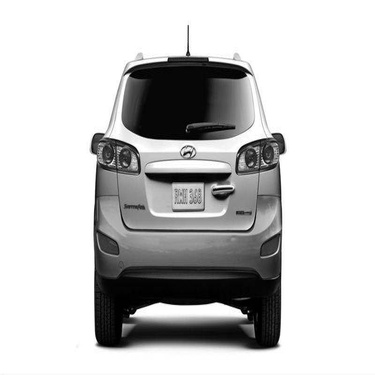car: (78, 13, 290, 352)
